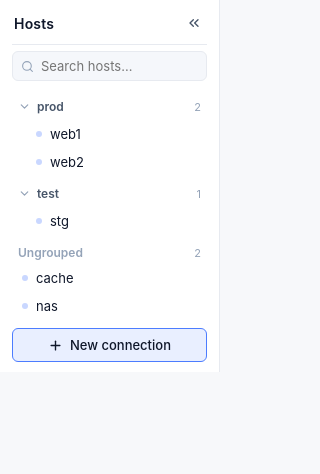
Drawer — moving hosts into groups › Ctrl-select several hosts, then Move N to a group in one go
Type keys "{Control>}"
Click the button "cache" at (94, 278), box [14, 264, 175, 292]
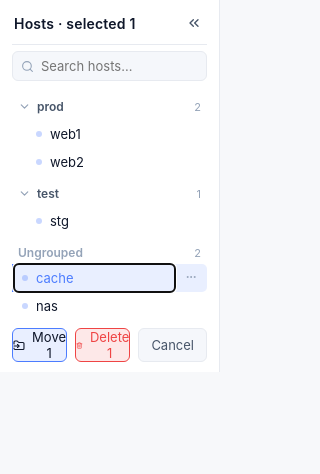
Click the button "nas" at (94, 306), box [14, 292, 175, 320]
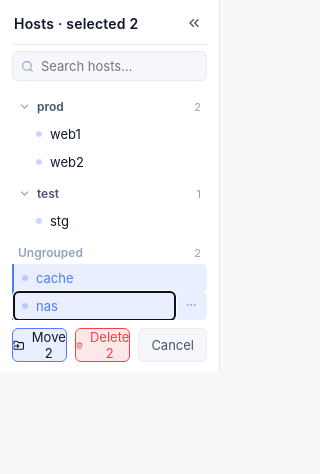
Type keys "{/Control}"
Click the button with aria-label "Move to group" at (40, 345), box [12, 328, 67, 362]
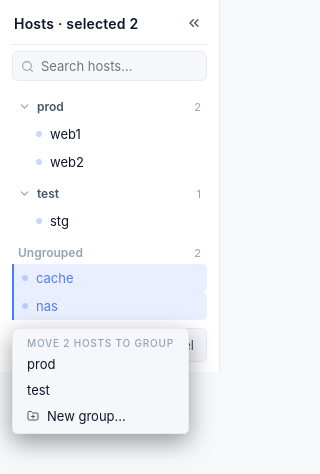
Click the menu item "test" at (100, 390), box [17, 377, 184, 403]
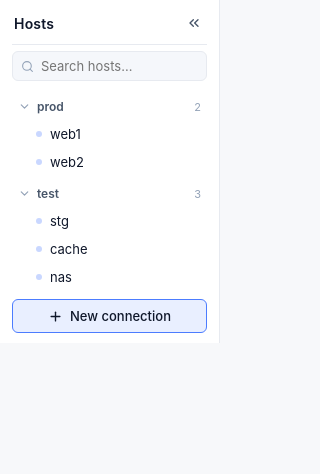
Expected: the button "Delete 2" is gone
